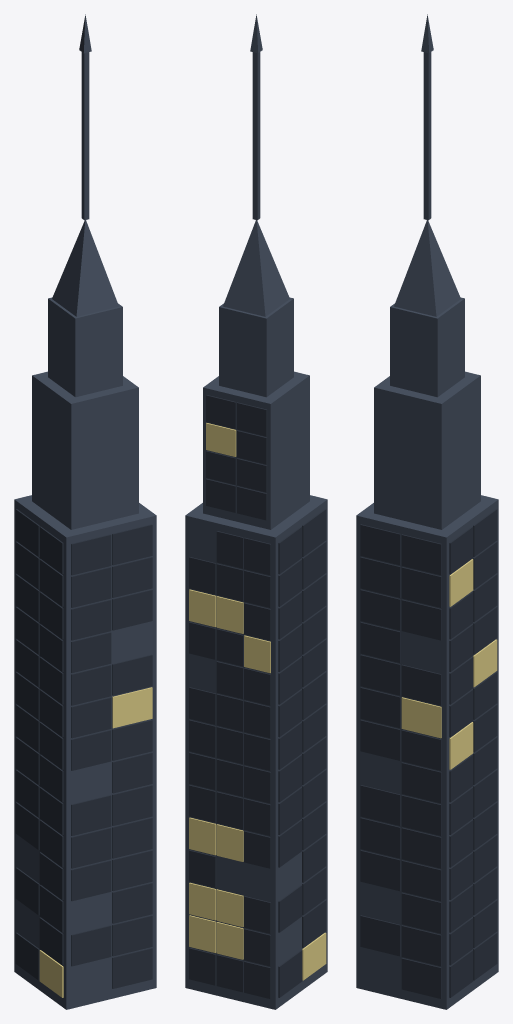
Rendered from Building_D.fbx.
3 renders of one model, left to right at view 1: azimuth 30°, elevation 25°; view 2: azimuth 150°, elevation 25°; view 3: azimuth 330°, elevation 25°, orthographic.
Parts seen in each view (by area): view 1: Building_D_Spire; view 2: Building_D_Spire; view 3: Building_D_Spire.
Part boxes in pixels (left/top/right/bottom): Building_D_Spire: left=14, top=14, right=156, bottom=1009; Building_D_Spire: left=185, top=14, right=327, bottom=1009; Building_D_Spire: left=356, top=14, right=498, bottom=1009.
Size of the model in its own units: 185 by 1840 by 185.
